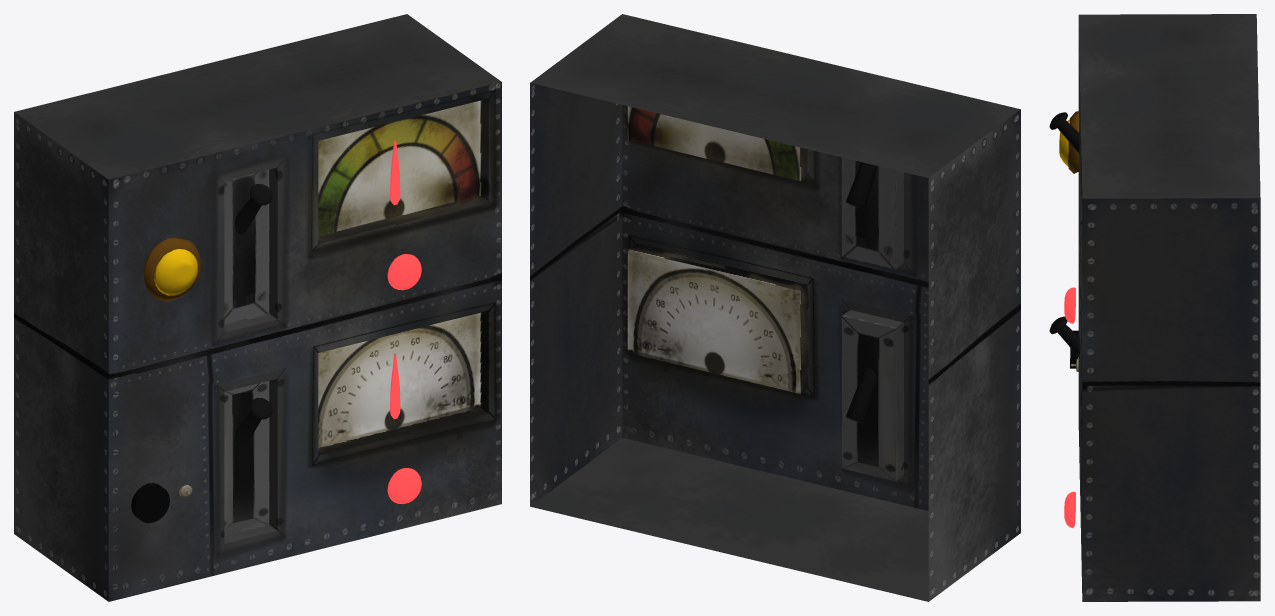
Rendered from Panel_right.fbx.
3 renders of one model, left to right at view 1: azimuth 30°, elevation 25°; view 2: azimuth 150°, elevation 25°; view 3: azimuth 270°, elevation 25°, orthographic. The views are drawn at different scales.
Visible parts, largest first — view 1: polySurface9, polySurface14, button1, dial, light_transform, light_transform2, lever_transform, lever_transform2; view 2: polySurface9, lever_transform2, lever_transform; view 3: polySurface9, lever_transform, lever_transform2, button1, light_transform2, light_transform.
Boxes of the visible parts, x1=… form: polySurface9: x1=14, y1=14, x2=501, y2=601; polySurface14: x1=154, y1=249, x2=197, y2=295; button1: x1=143, y1=237, x2=200, y2=300; dial: x1=131, y1=483, x2=169, y2=523; light_transform: x1=387, y1=254, x2=421, y2=290; light_transform2: x1=387, y1=468, x2=421, y2=503; lever_transform: x1=234, y1=184, x2=272, y2=234; lever_transform2: x1=234, y1=398, x2=272, y2=448; polySurface9: x1=530, y1=14, x2=1020, y2=601; lever_transform2: x1=846, y1=368, x2=876, y2=423; lever_transform: x1=846, y1=162, x2=876, y2=208; polySurface9: x1=1078, y1=14, x2=1260, y2=601; lever_transform: x1=1049, y1=112, x2=1079, y2=153; lever_transform2: x1=1049, y1=316, x2=1079, y2=357; button1: x1=1068, y1=111, x2=1078, y2=173; light_transform2: x1=1064, y1=491, x2=1075, y2=527; light_transform: x1=1064, y1=287, x2=1075, y2=323.
Size of the model in its own units: 7.71 by 7.84 by 3.72.
Materials: 7 (1 with a texture image).
